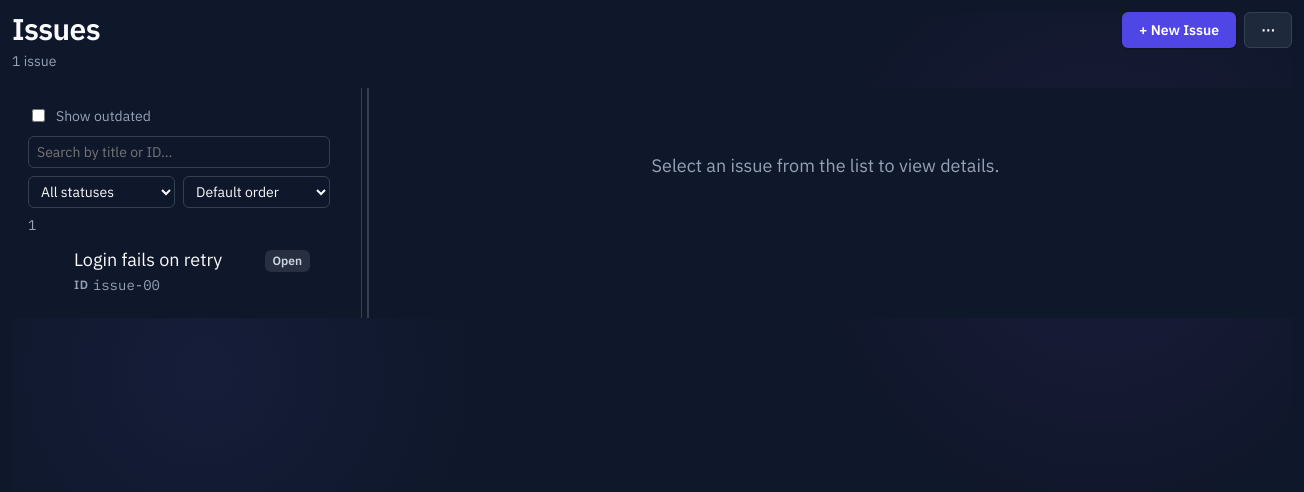
IssueEditors Task 2.3 concept remodel (PageHeader / ArtifactRow / Dialog / EmptyState) › shows the no-match variant with only a reset-filters action when the filter matches nothing
This screenshot has width=1304, height=492.
Type "no such issue title" into the search field with test id "issue-list-search-input" at [179, 152], box x1=28 y1=136 x2=330 y2=168
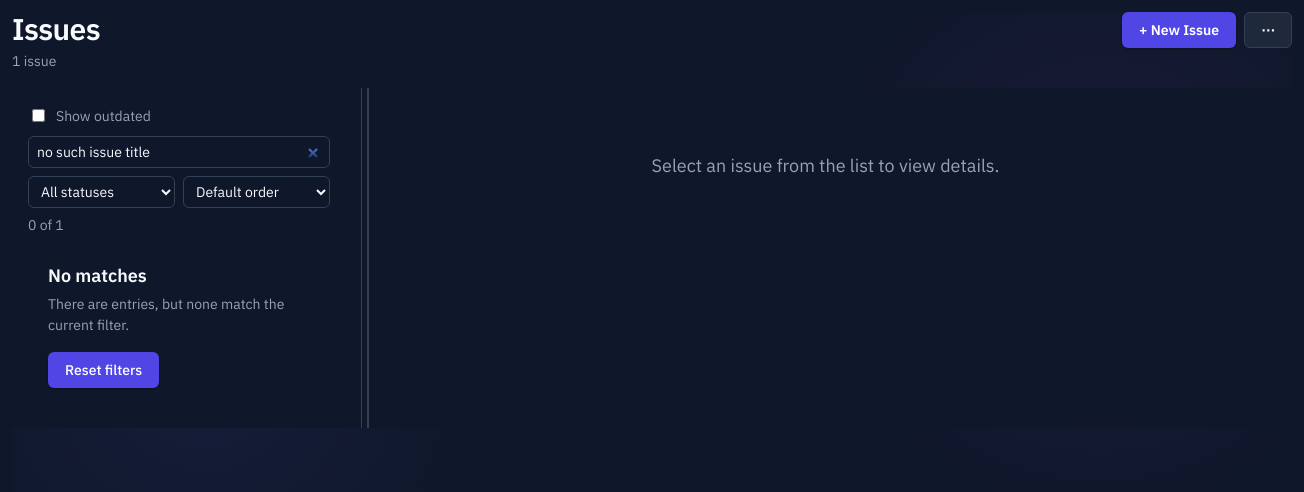
Check: the element with test id "issue-list-no-match" is shown, box x1=48 y1=264 x2=284 y2=388
Check: the button with test id "issue-list-no-match-reset-filters" is shown, box x1=48 y1=352 x2=159 y2=388
